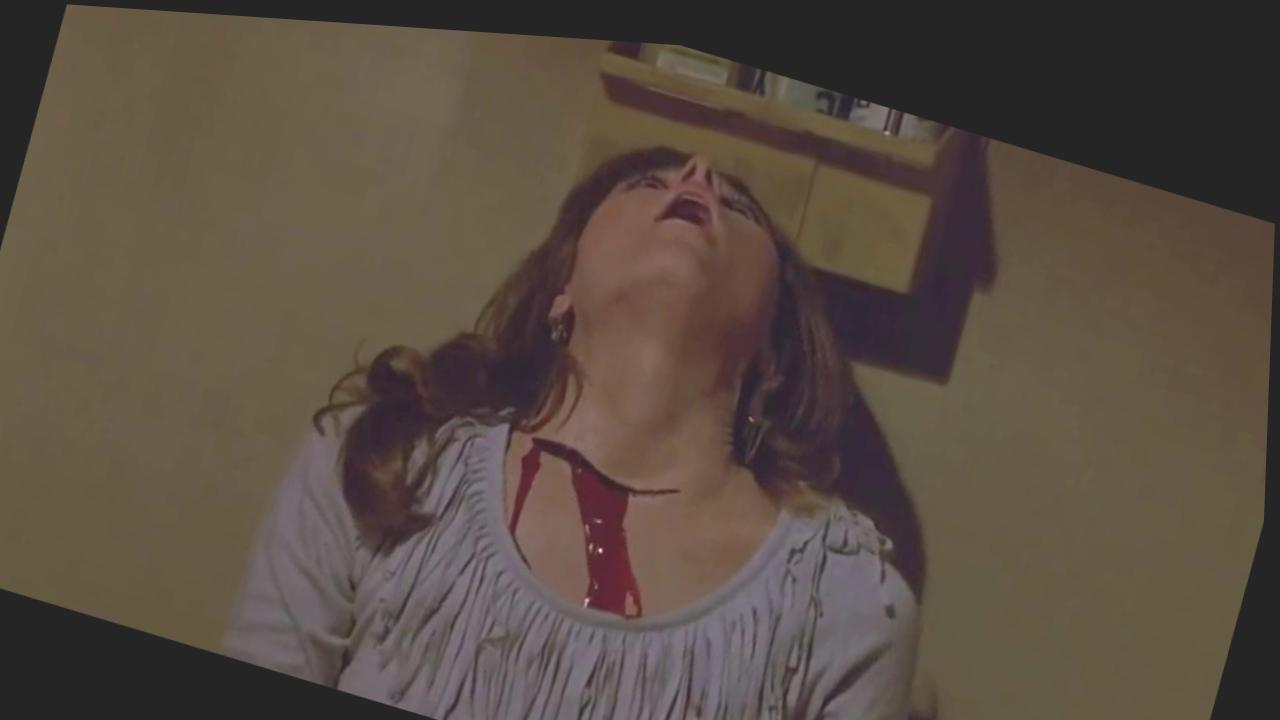Fire: (513, 430, 682, 608)
